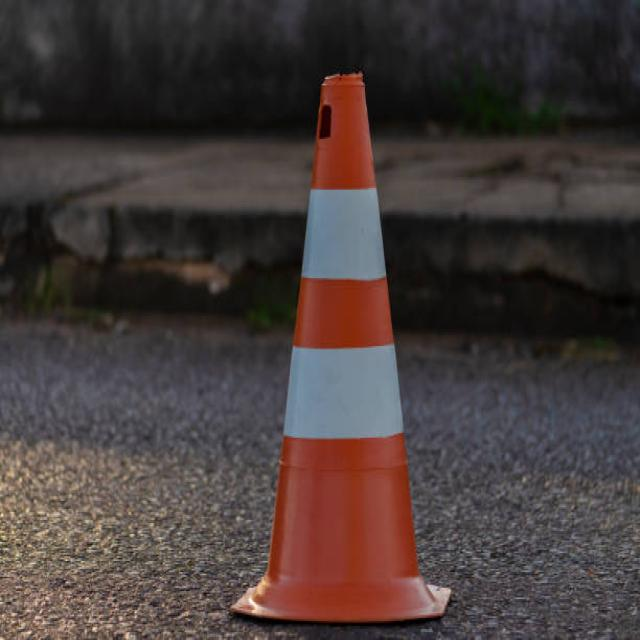Traffic Cone: (223, 31, 463, 640)
